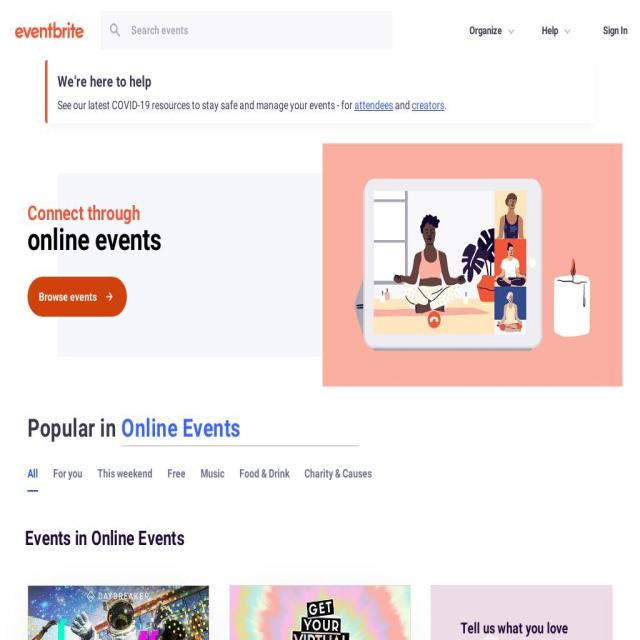button: (28, 585, 210, 640), (229, 585, 411, 640), (457, 0, 529, 60), (27, 276, 127, 316), (530, 0, 586, 60), (590, 0, 640, 60), (304, 457, 372, 490), (98, 457, 152, 490), (240, 457, 290, 490), (53, 457, 83, 490), (200, 457, 224, 490), (168, 457, 185, 490), (28, 456, 38, 492)
field: (118, 402, 360, 455), (122, 11, 392, 49)
heading: (28, 227, 612, 253), (28, 203, 612, 227), (39, 288, 97, 305), (104, 290, 114, 303)
image: (322, 143, 622, 387), (58, 173, 406, 357), (28, 584, 210, 640), (229, 584, 411, 640), (28, 585, 210, 640), (229, 585, 411, 640), (430, 592, 612, 640), (15, 22, 84, 38), (560, 22, 575, 42), (108, 20, 122, 40), (504, 22, 518, 42)
link: (354, 98, 394, 112), (412, 98, 444, 112)
text: (58, 98, 354, 112), (25, 527, 184, 550), (461, 618, 613, 640), (28, 412, 116, 445), (57, 72, 152, 92), (304, 467, 372, 480), (98, 467, 152, 480), (240, 467, 290, 480), (469, 22, 502, 38), (53, 467, 83, 480), (603, 23, 628, 37), (200, 467, 224, 480), (393, 98, 412, 112), (542, 22, 558, 38), (168, 467, 185, 480), (28, 467, 38, 480), (444, 98, 447, 112)
